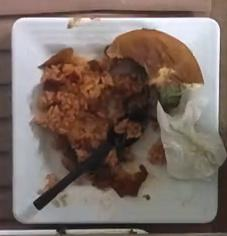rice_mix: (35, 48, 130, 161), (106, 30, 203, 112)
